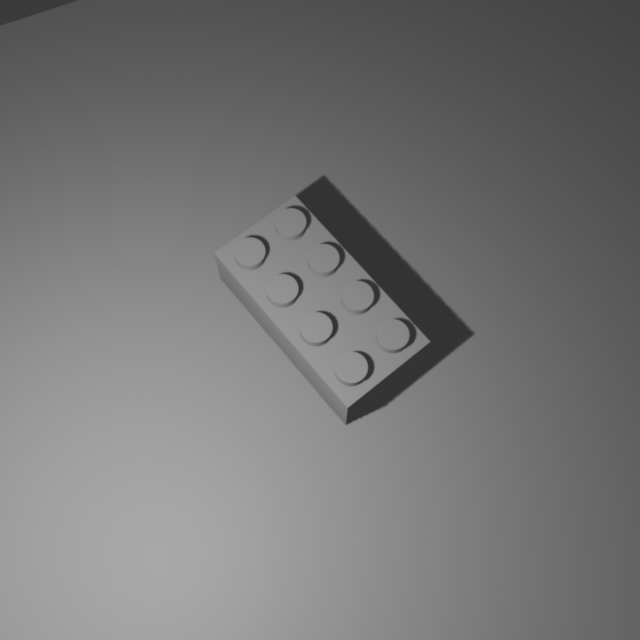lego_2x4: (213, 190, 432, 425)
